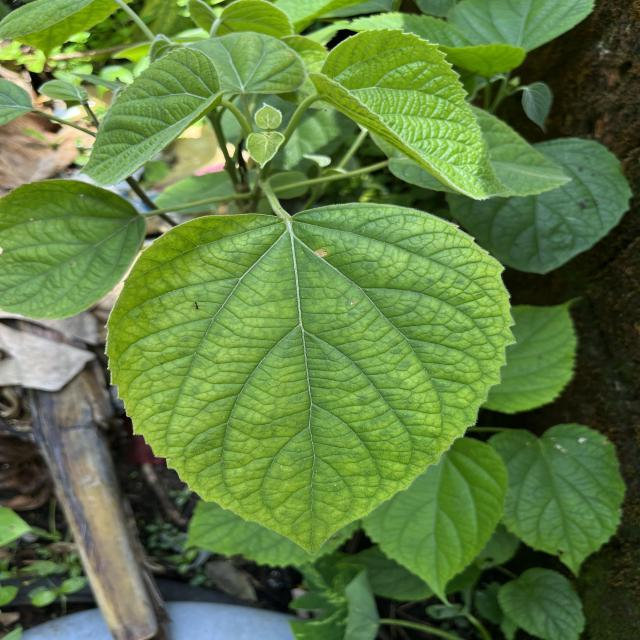Clerodendrum infortunatum: (98, 200, 520, 558), (307, 25, 518, 202), (356, 436, 511, 610), (485, 420, 628, 580), (0, 178, 150, 323), (76, 45, 229, 187), (482, 292, 586, 414)
